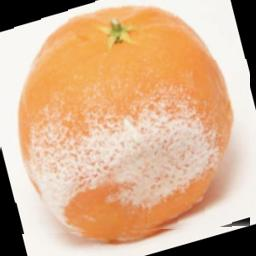Orange Rotten: (0, 0, 250, 235)
